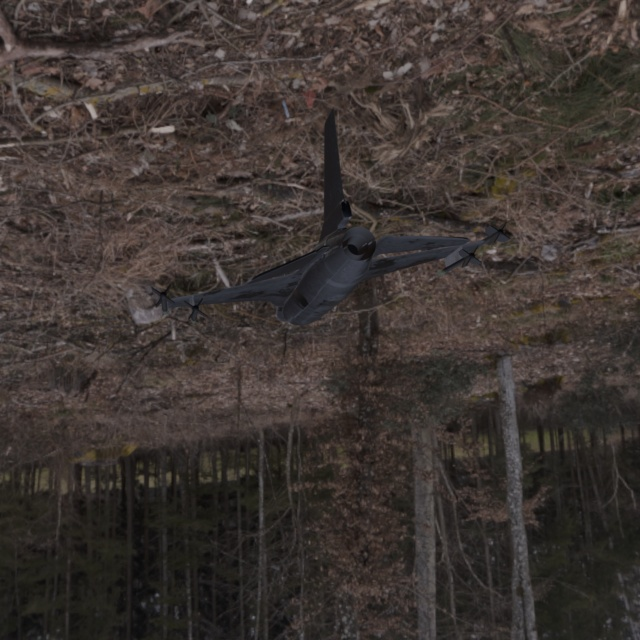model: (137, 80, 556, 363)
